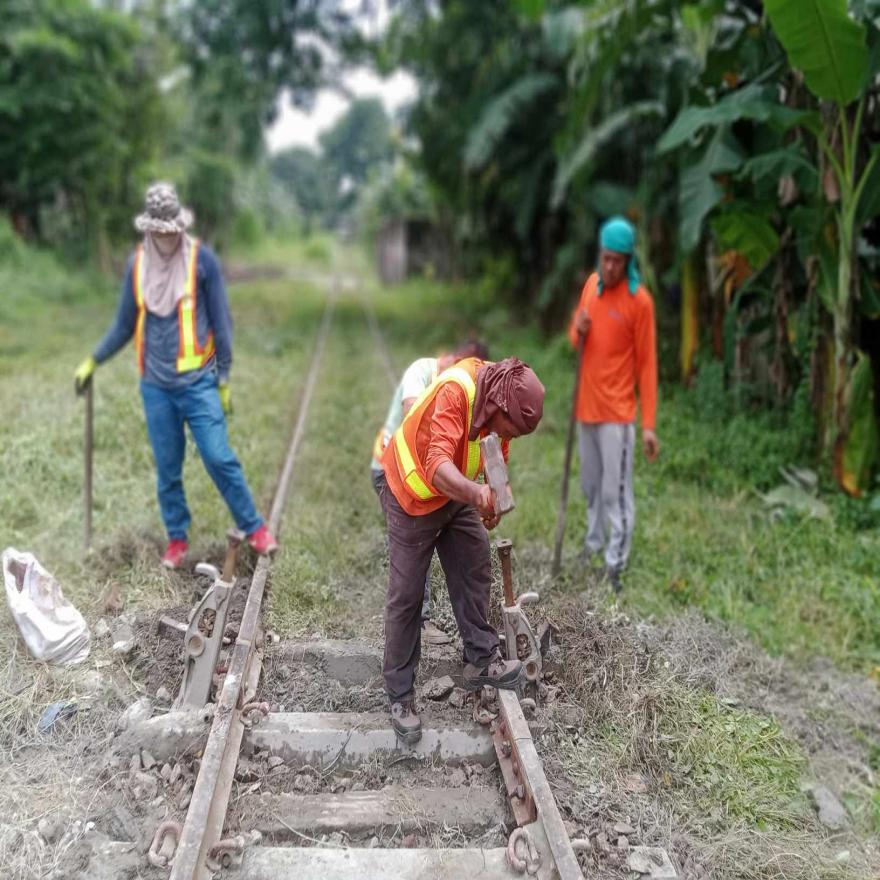railway-gap: (495, 701, 557, 779)
